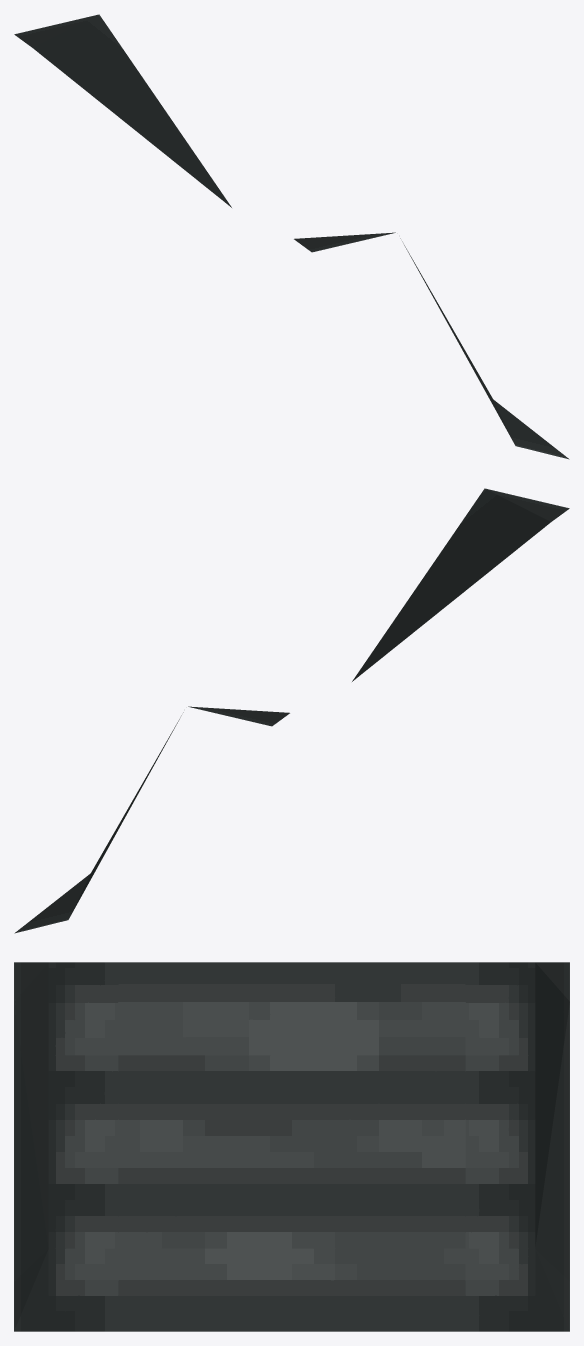
3 views of the same model, one above another, from view 1: azimuth 30°, elevation 25°; view 2: azimuth 150°, elevation 25°; view 3: azimuth 270°, elevation 25° (orthographic). The views are drawn at different scales.
Bounding box in the file's own units: 1 × 1 × 2.
Materials: 1 (1 with a texture image).
